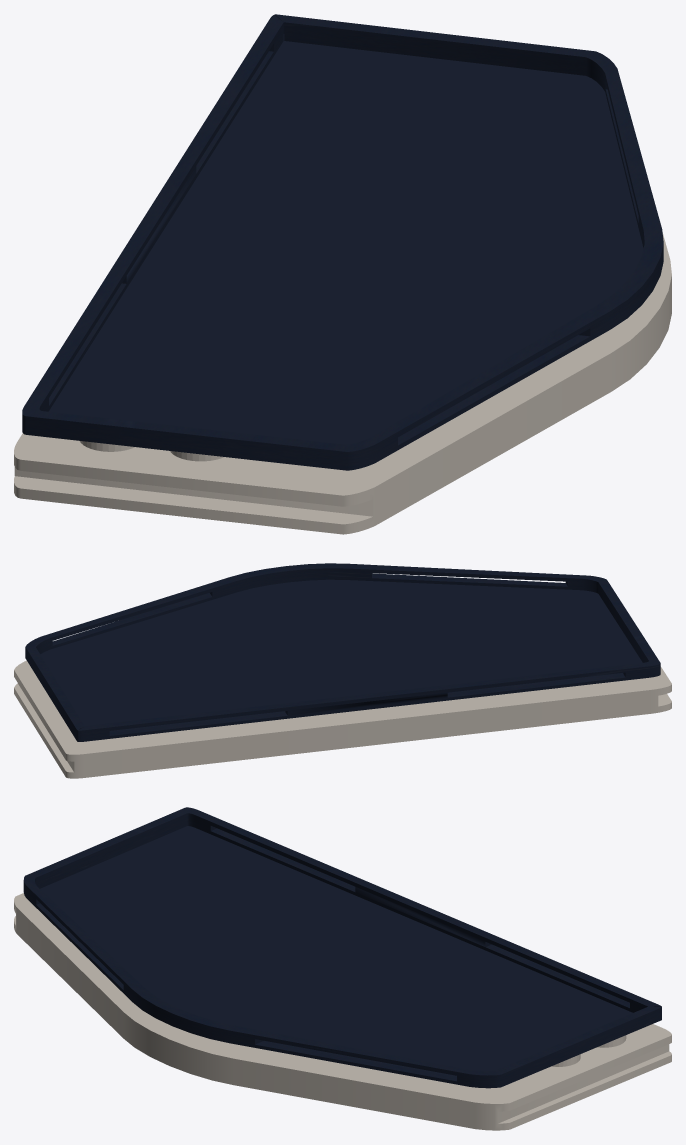
Rendered from Platform.fbx.
3 views of the same model, one above another, from view 1: azimuth 30°, elevation 25°; view 2: azimuth 150°, elevation 25°; view 3: azimuth 270°, elevation 25° (orthographic). The views are drawn at different scales.
Parts seen in each view (by area): view 1: Platform; view 2: Platform; view 3: Platform.
Part boxes in pixels (left/top/right/bottom): Platform: left=14, top=14, right=671, bottom=534; Platform: left=14, top=563, right=671, bottom=778; Platform: left=14, top=807, right=671, bottom=1130.
Size of the model in its own units: 265 by 267 by 22.81.
